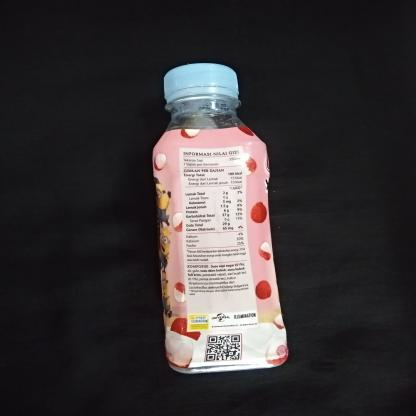bottle: (148, 59, 292, 377)
